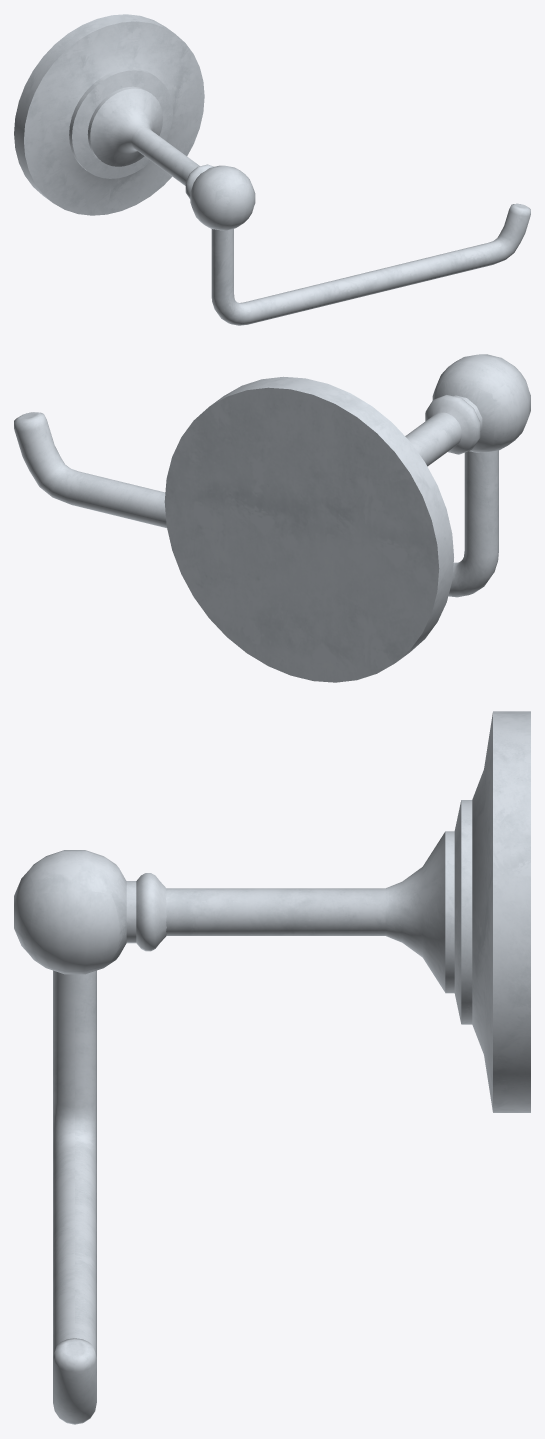
File: ToiletRollHolder3.fbx
3 renders of one model, top to bottom at view 1: azimuth 30°, elevation 25°; view 2: azimuth 150°, elevation 25°; view 3: azimuth 270°, elevation 25°, orthographic. The views are drawn at different scales.
Parts seen in each view (by area): view 1: ToiletRollHolder3; view 2: ToiletRollHolder3; view 3: ToiletRollHolder3.
Boxes of the visible parts, <box> form: ToiletRollHolder3: <box>14,14,530,325</box>; ToiletRollHolder3: <box>14,354,530,682</box>; ToiletRollHolder3: <box>14,711,530,1424</box>.
Size of the model in its own units: 6.59 by 3.58 by 3.86.
